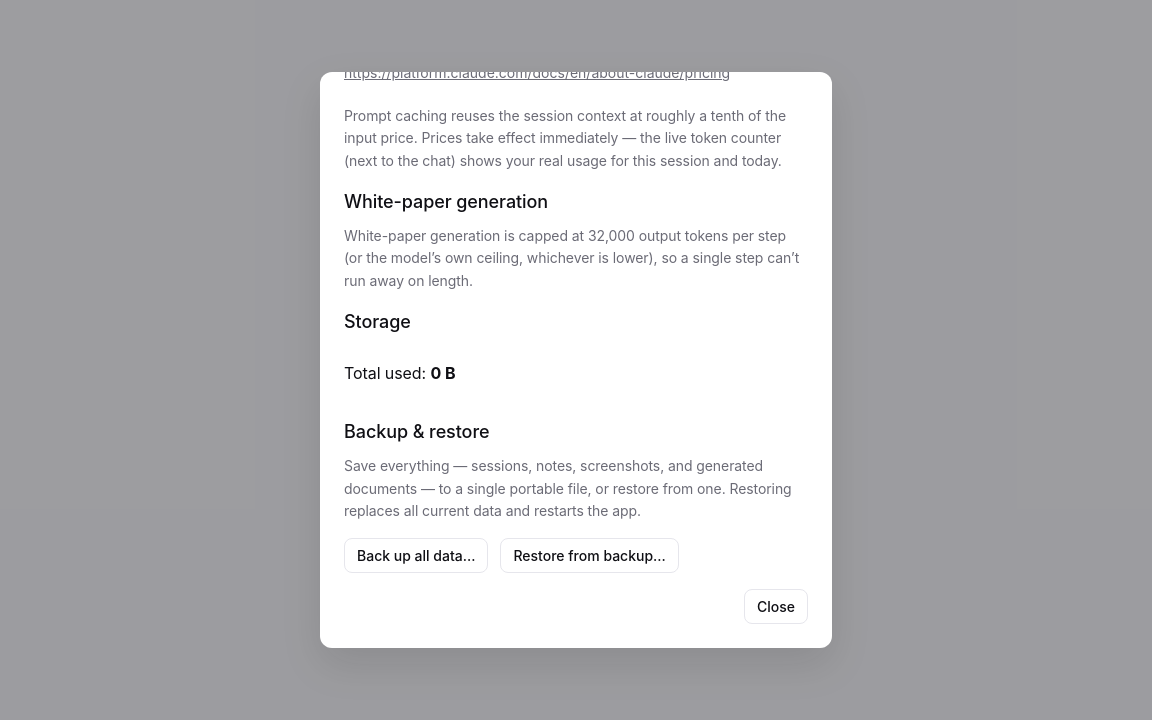
Scenario: SettingsModal — backup/restore (M06.C) › Restore surfaces a clear message when the backup is from a NEWER version (never silent)
(page scrolled)
Step 1. Click the button "Restore from backup…" → (590,556), box 500,538 -> 679,573
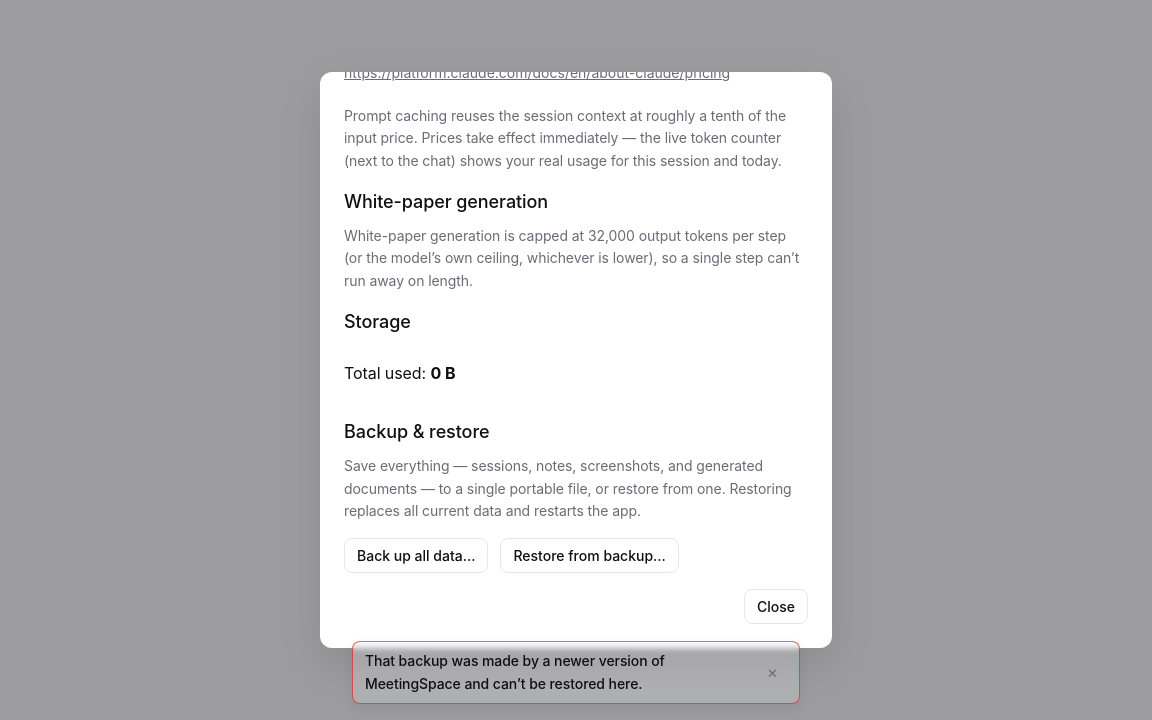
Now the text "newer version" is shown, box 365,652 -> 665,692
